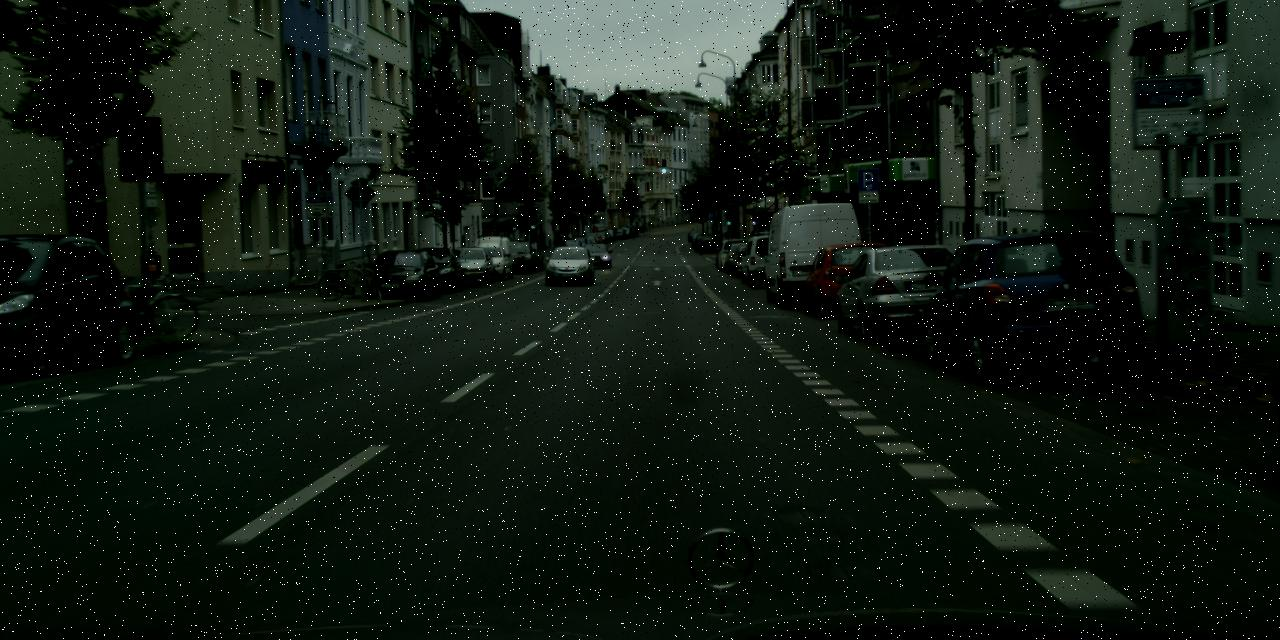ped: (557, 232, 565, 252), (690, 228, 696, 244), (592, 226, 597, 238)
